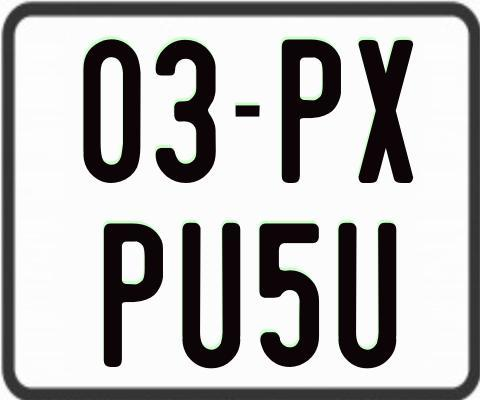0: (80, 38, 141, 183)
3: (153, 39, 219, 184)
5: (259, 220, 321, 370)
P: (103, 220, 166, 370), (281, 37, 343, 181)
U: (179, 222, 241, 367), (337, 220, 396, 367)
X: (356, 40, 411, 186)
